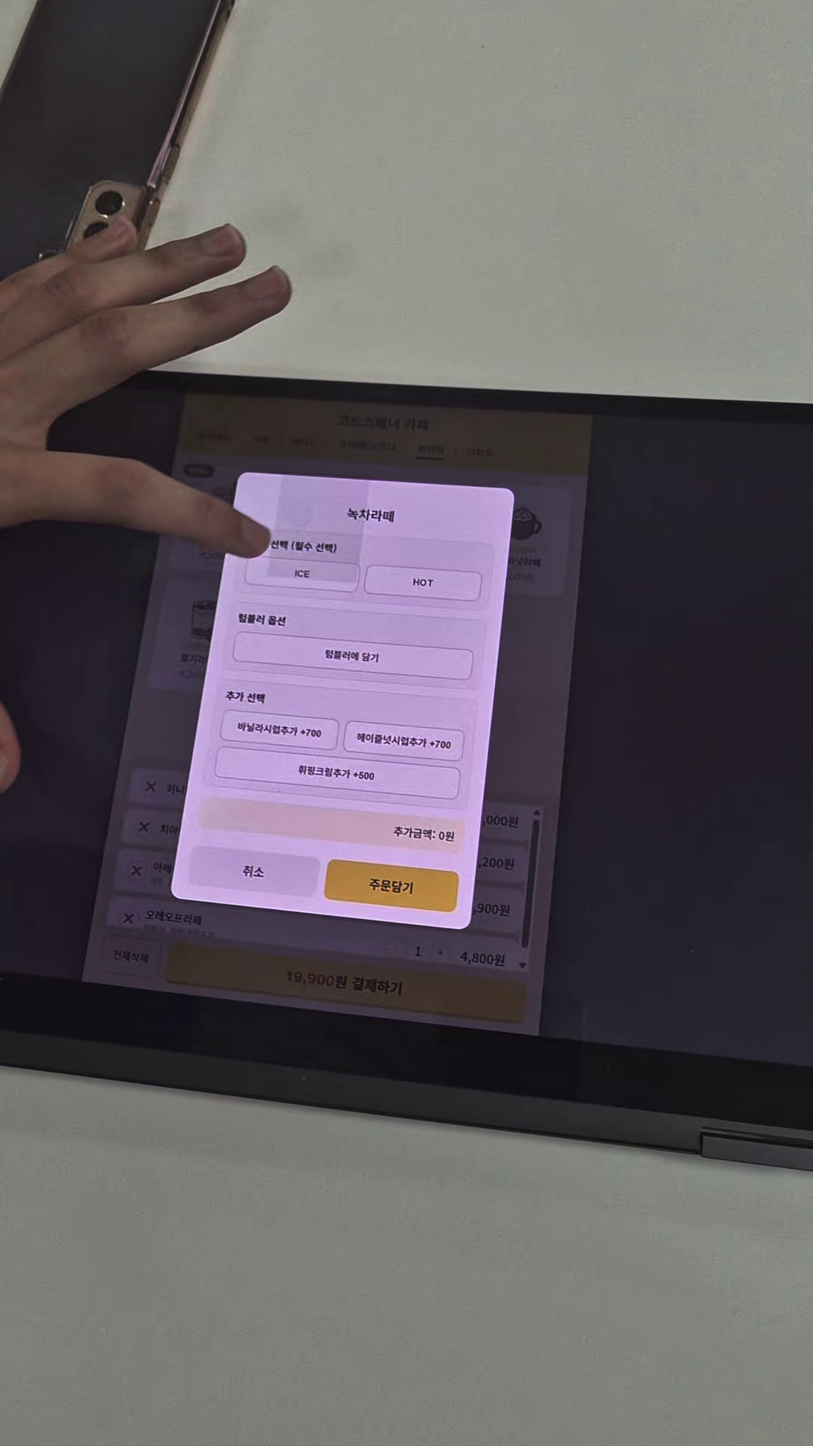action_button: (324, 860, 458, 911), (188, 846, 320, 897)
option_button: (213, 746, 461, 799), (234, 631, 473, 680), (344, 720, 464, 762), (219, 709, 338, 750), (365, 565, 480, 601), (245, 557, 360, 592)
popup_modal: (170, 473, 514, 930)
